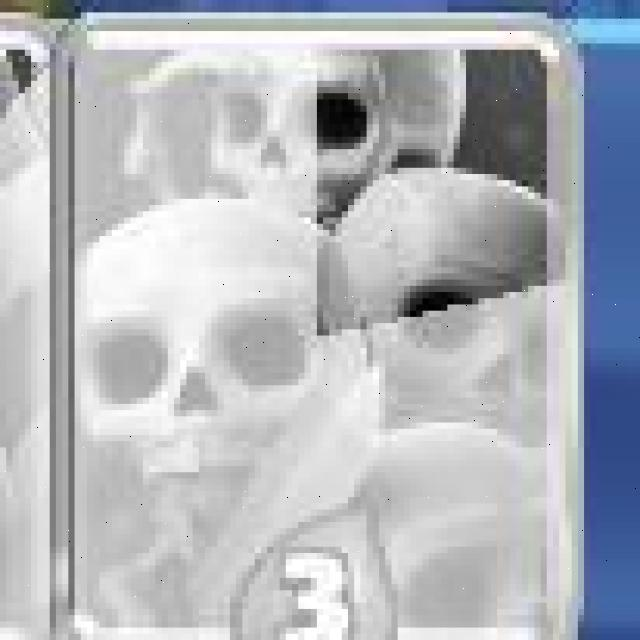Skeleton_Army: (57, 16, 580, 639)
